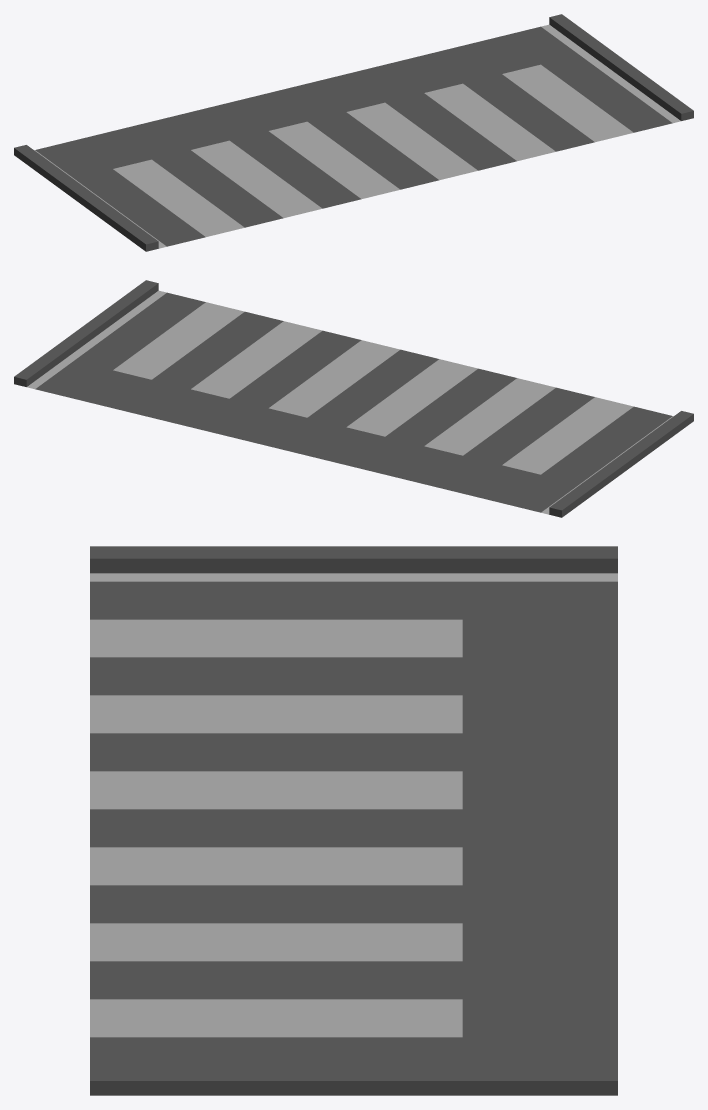
Rendered from Road_02.fbx.
3 renders of one model, top to bottom at view 1: azimuth 30°, elevation 25°; view 2: azimuth 150°, elevation 25°; view 3: azimuth 270°, elevation 25°, orthographic. The views are drawn at different scales.
Parts seen in each view (by area): view 1: Road_2; view 2: Road_2; view 3: Road_2.
Part boxes in pixels (x1,y1,x2,y2): Road_2: [14, 14, 693, 251]; Road_2: [14, 280, 693, 517]; Road_2: [90, 546, 617, 1095].
Bounding box in the file's own units: 2400 × 30.84 × 1002.
